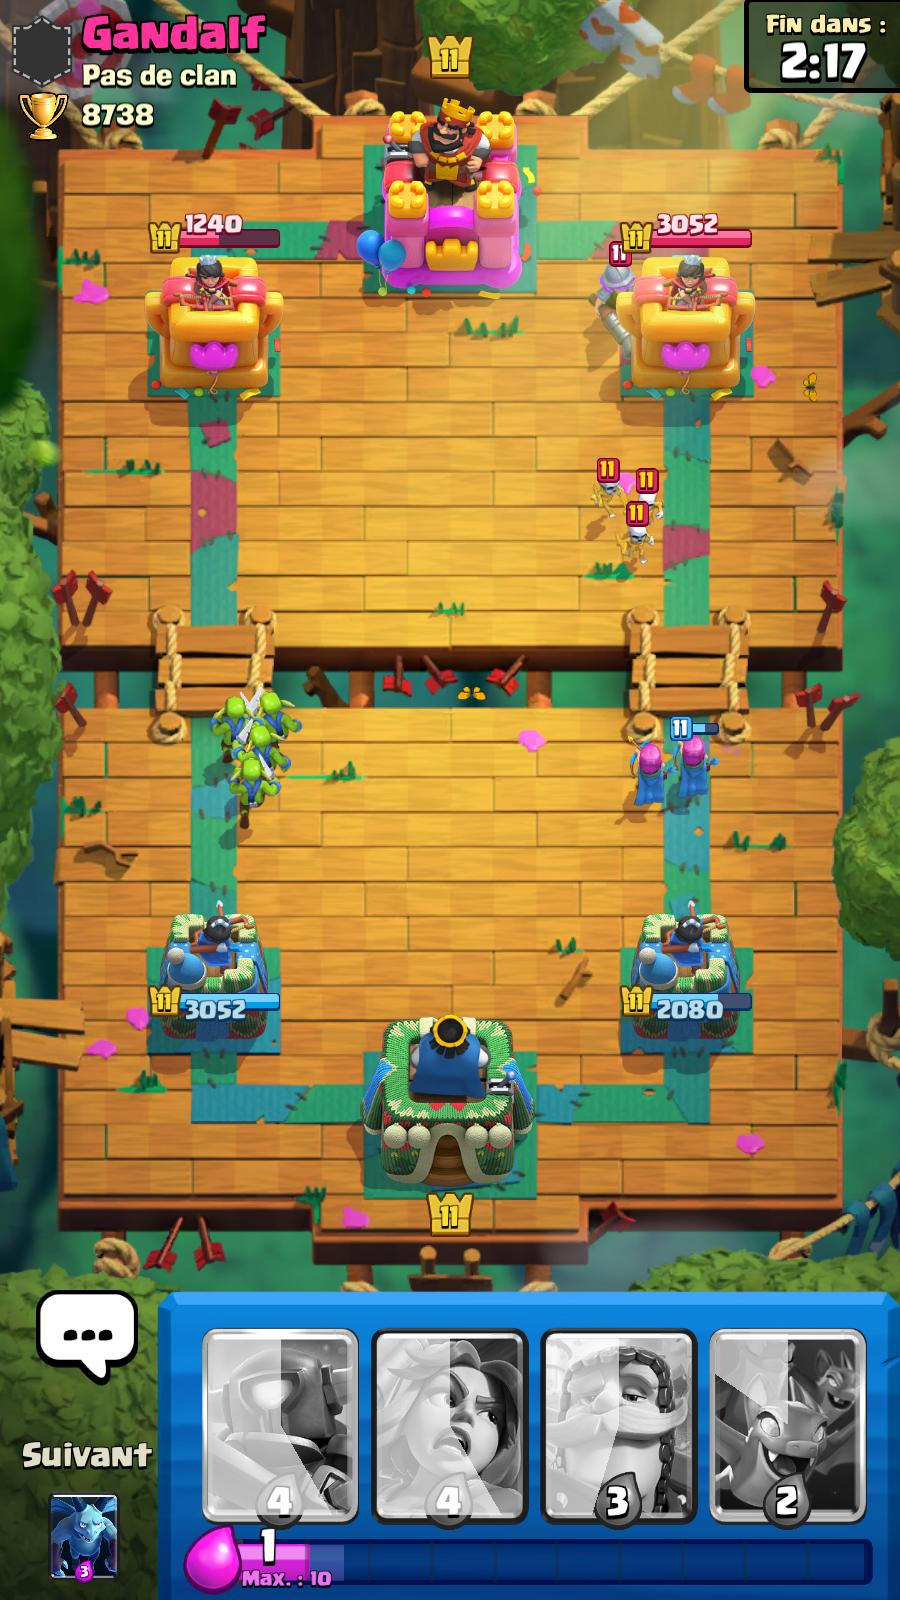archere: (619, 735, 677, 815), (668, 724, 724, 805)
gobelin: (234, 724, 298, 786), (227, 766, 286, 832), (253, 685, 309, 748), (213, 697, 248, 756)
mousquetaire: (581, 240, 653, 358)
squelette: (586, 467, 630, 521), (620, 515, 658, 566), (633, 475, 670, 526)
